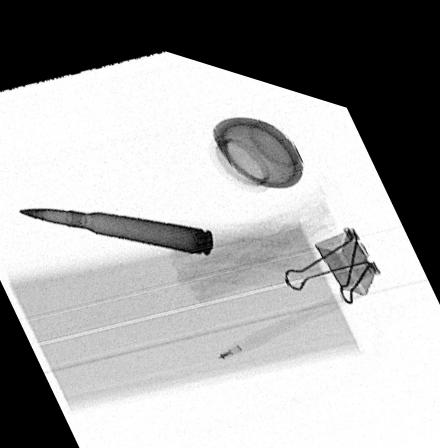Bullet: (16, 204, 214, 243)
